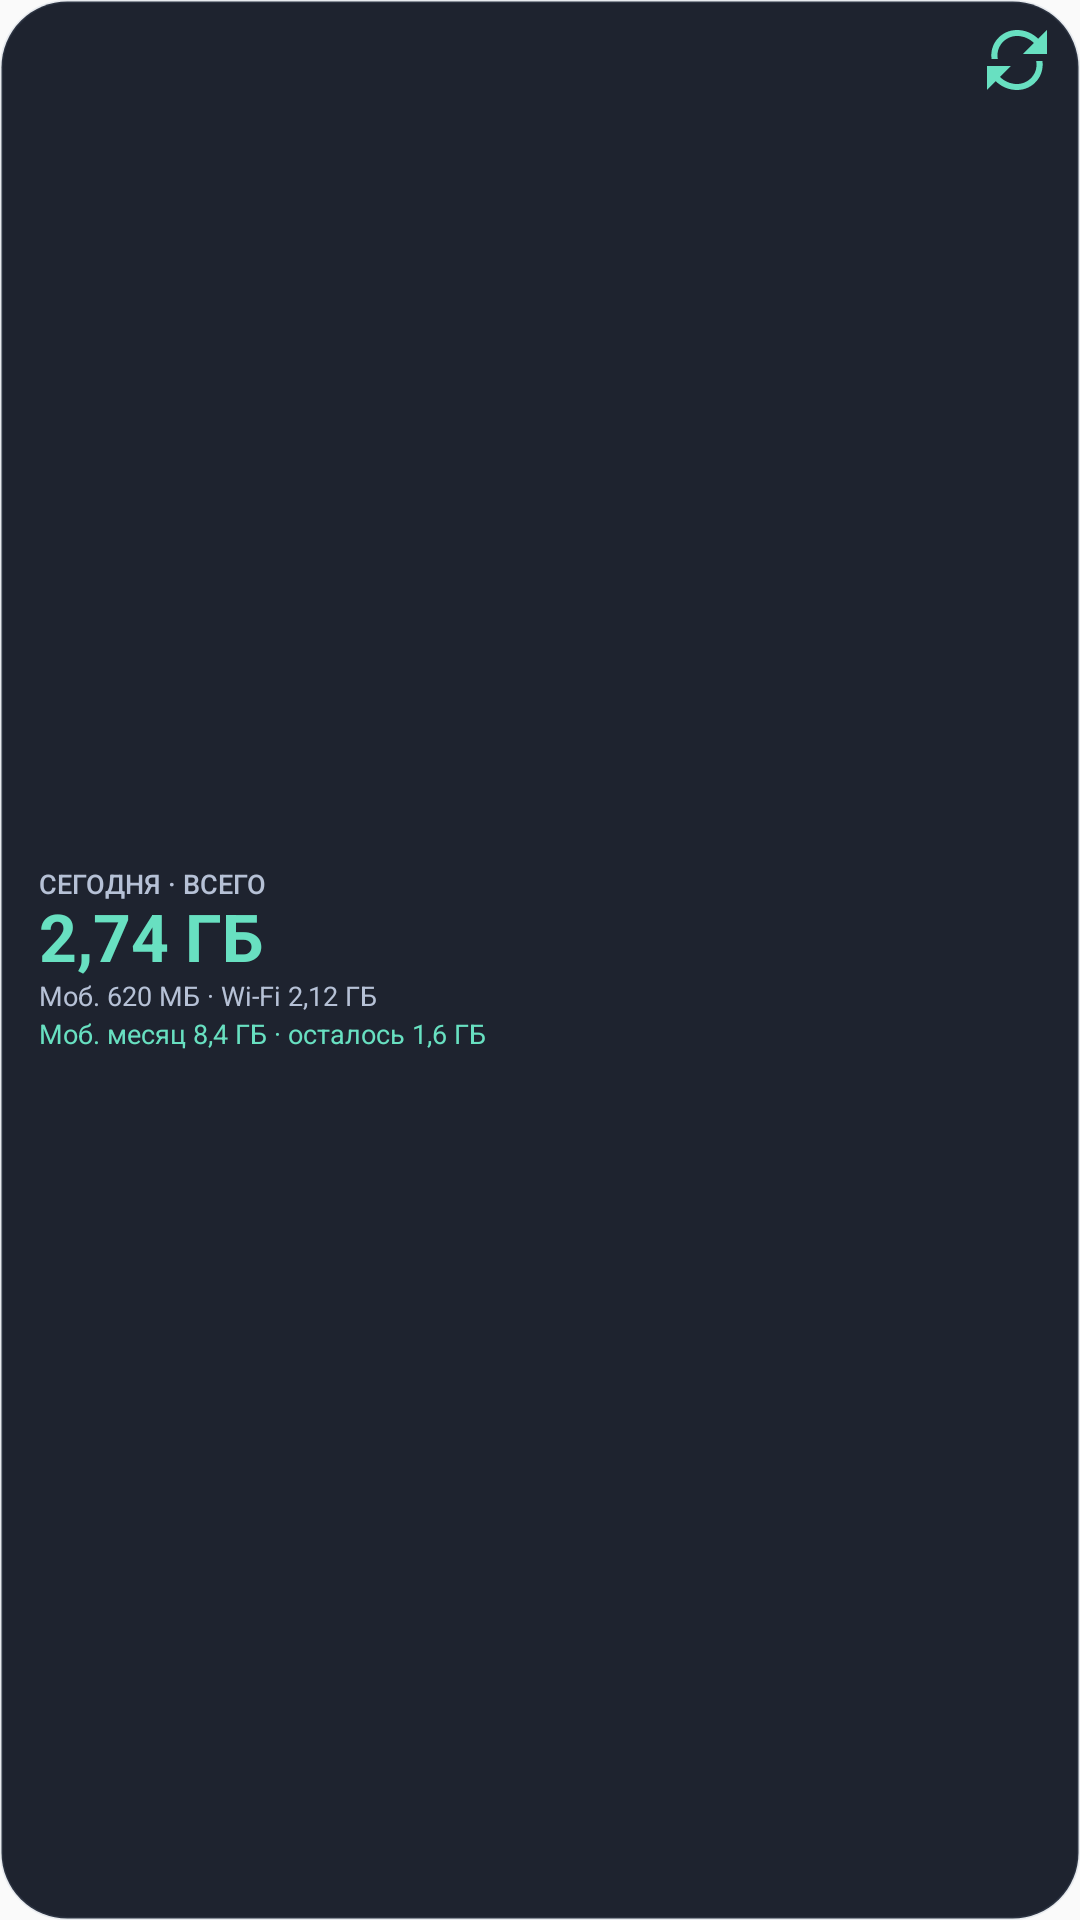

Named icons in this screenshot (1080*1920) and their bounding boxes, (x1, y1, x2, y2):
Обновить статистику: (987, 30, 1047, 90)
